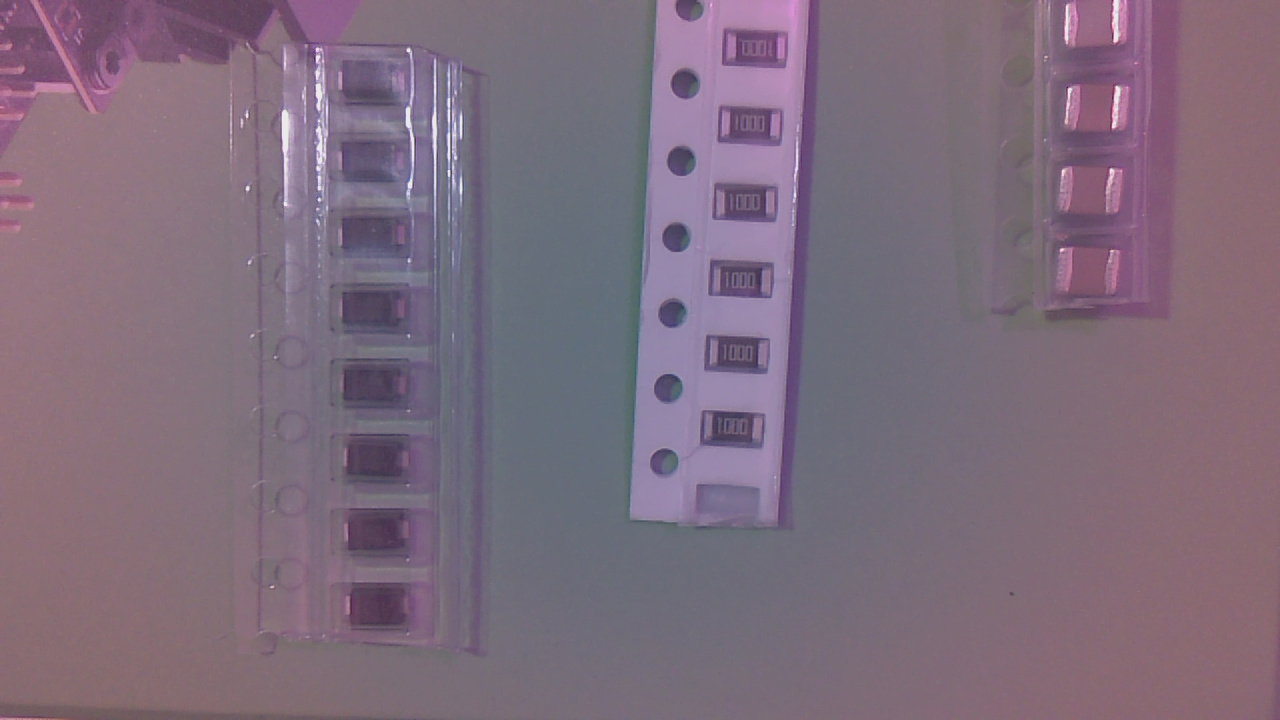Condensator: (1069, 88, 1139, 140), (1062, 170, 1130, 223), (1061, 252, 1126, 302), (1068, 7, 1133, 55)
Diode: (339, 61, 411, 103), (342, 367, 414, 409), (345, 593, 416, 632), (341, 145, 413, 182), (346, 442, 418, 479), (344, 297, 413, 334), (346, 516, 413, 553), (341, 223, 412, 257)
Resistor: (719, 188, 782, 228), (707, 413, 771, 452), (712, 338, 775, 377), (729, 35, 796, 70), (723, 112, 787, 147), (718, 268, 778, 303)
